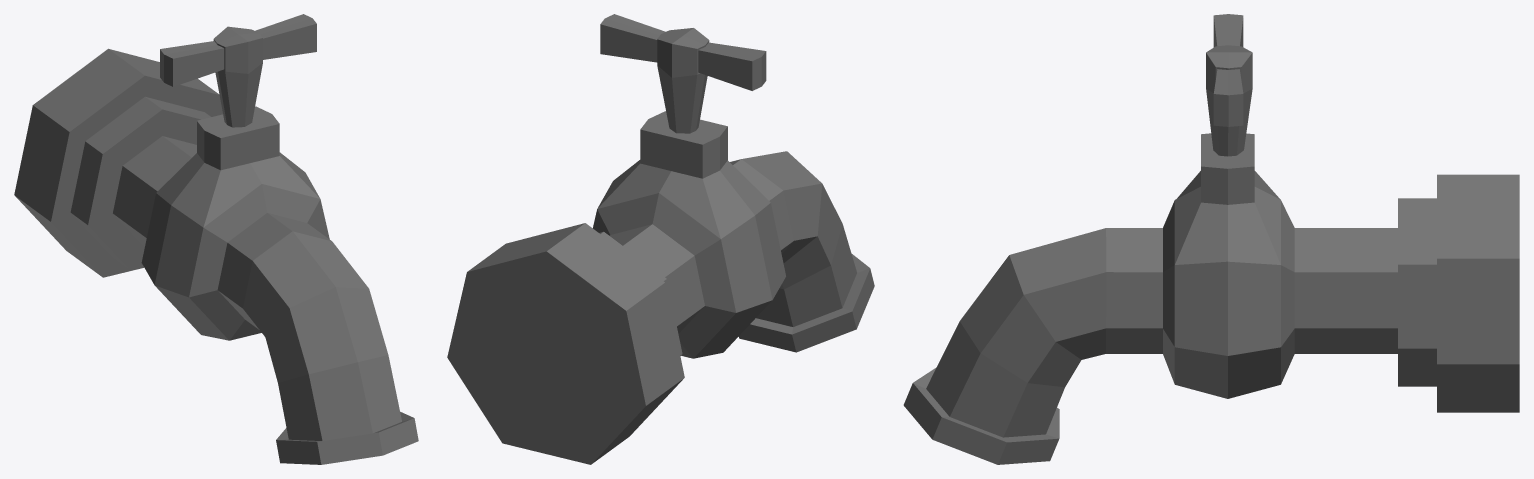
The model's file is Faucet .fbx.
3 views of the same model, side by side, from view 1: azimuth 30°, elevation 25°; view 2: azimuth 150°, elevation 25°; view 3: azimuth 270°, elevation 25° (orthographic). The views are drawn at different scales.
Parts seen in each view (by area): view 1: Faucet; view 2: Faucet; view 3: Faucet.
Boxes of the visible parts, x1,y1,x2,y2 form: Faucet: (14, 14, 418, 464); Faucet: (447, 14, 874, 464); Faucet: (903, 14, 1519, 464).
Size of the model in its own units: 9.78 by 17.46 by 24.74.
